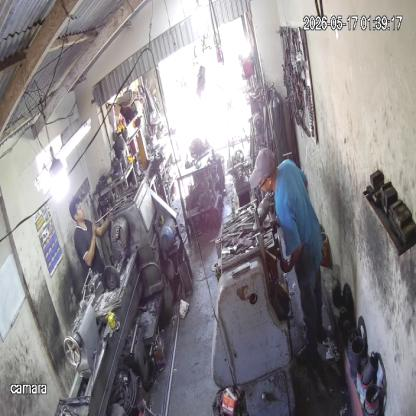lentes: (257, 173, 269, 190)
